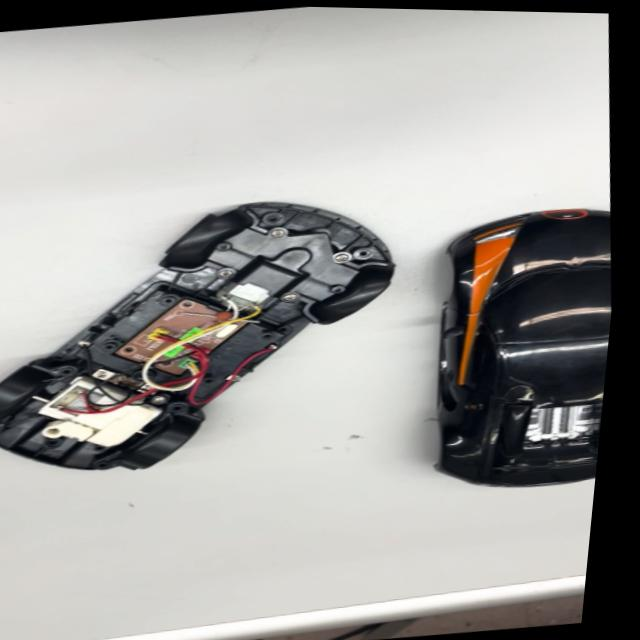Chassis: (0, 176, 423, 494)
vehicle_body: (395, 199, 622, 506)
